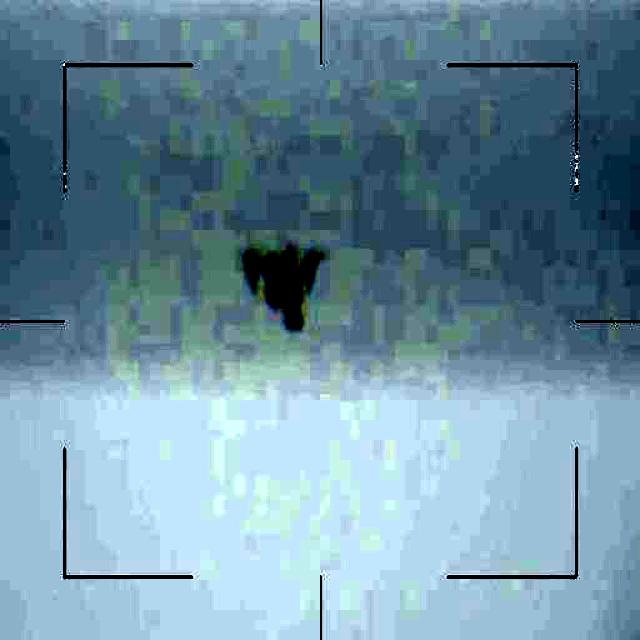bird: (240, 244, 322, 331)
